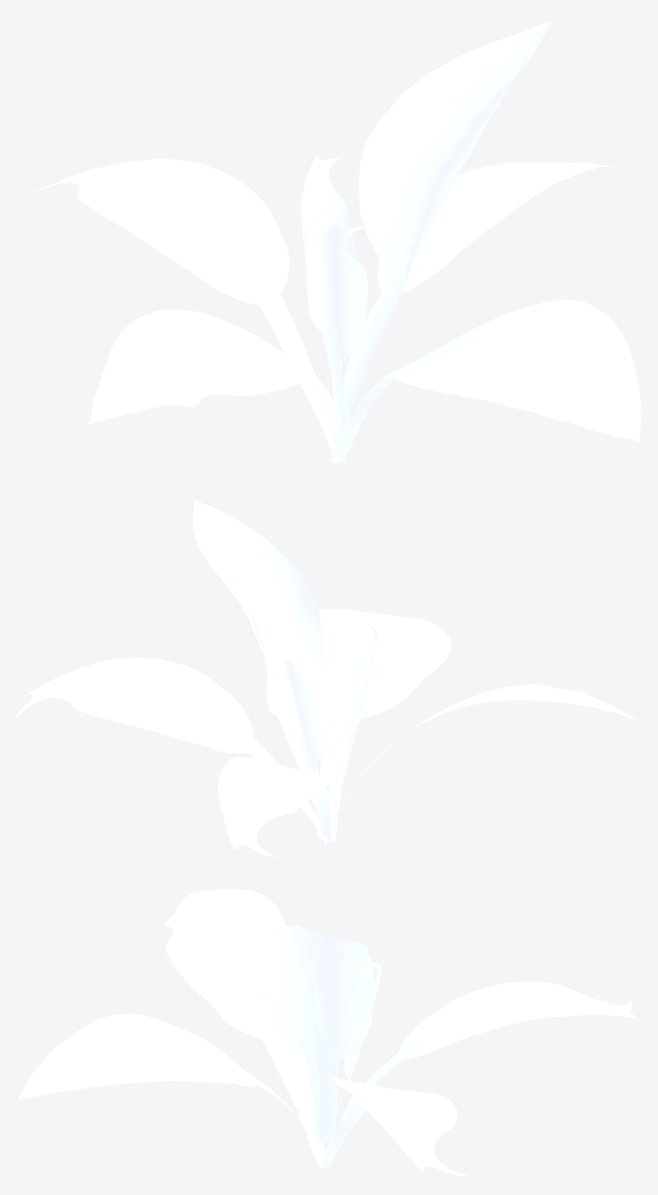
The picture shows the model from 3 angles, top to bottom: view 1: azimuth 30°, elevation 25°; view 2: azimuth 150°, elevation 25°; view 3: azimuth 270°, elevation 25°; orthographic projection. The views are drawn at different scales.
Visible parts, largest first — view 1: SM_FH_Sm_Plant_02_LOD0; view 2: SM_FH_Sm_Plant_02_LOD0; view 3: SM_FH_Sm_Plant_02_LOD0.
Part boxes in pixels (x1,y1,x2,y2): SM_FH_Sm_Plant_02_LOD0: [20, 19, 640, 463]; SM_FH_Sm_Plant_02_LOD0: [15, 500, 636, 856]; SM_FH_Sm_Plant_02_LOD0: [18, 889, 638, 1176].
Size of the model in its own units: 1.24 by 0.7015 by 1.24.
Materials: 1 (1 with a texture image).
